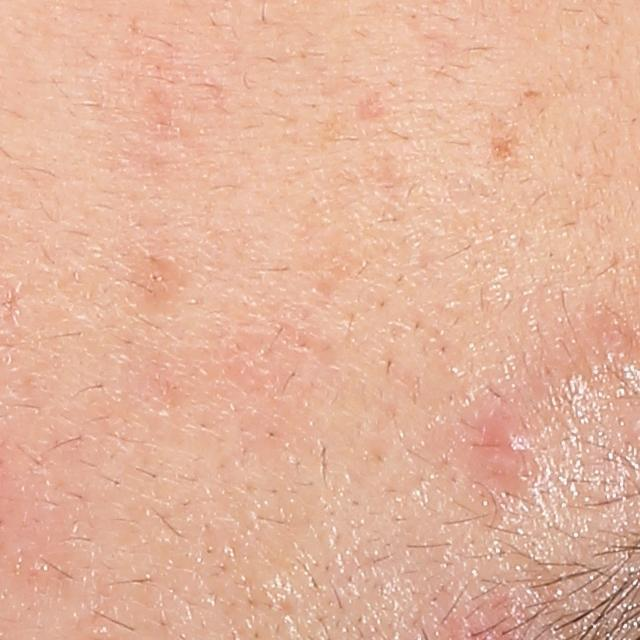atrophic_scar: (356, 99, 388, 123)
